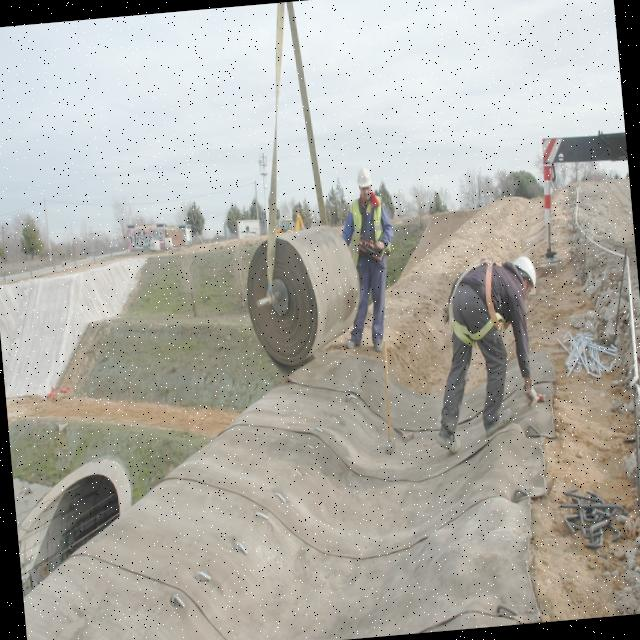Helmet: (515, 256, 539, 298), (357, 167, 374, 190)
Jacket: (351, 197, 388, 258)
NoJacket: (455, 262, 525, 322)
